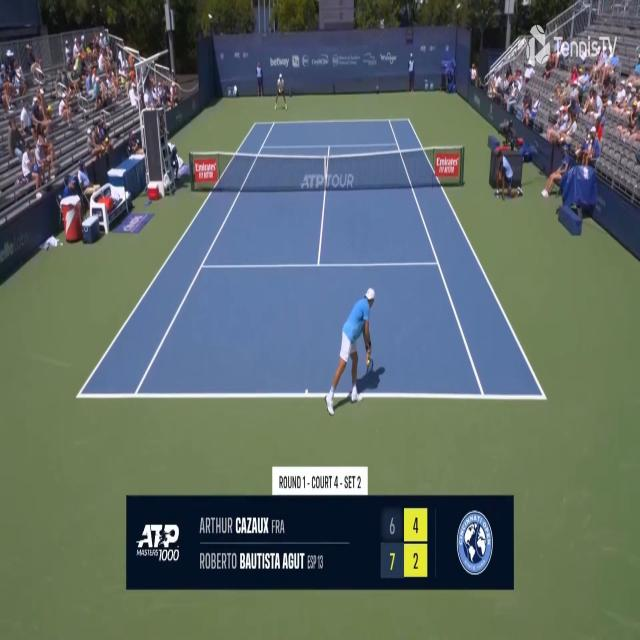tennis-player: (322, 284, 387, 421), (274, 74, 288, 111)
